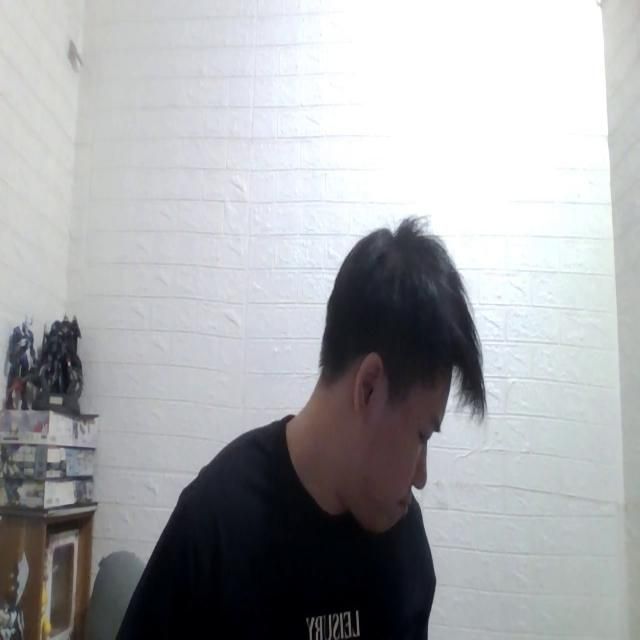student: (136, 221, 486, 640)
